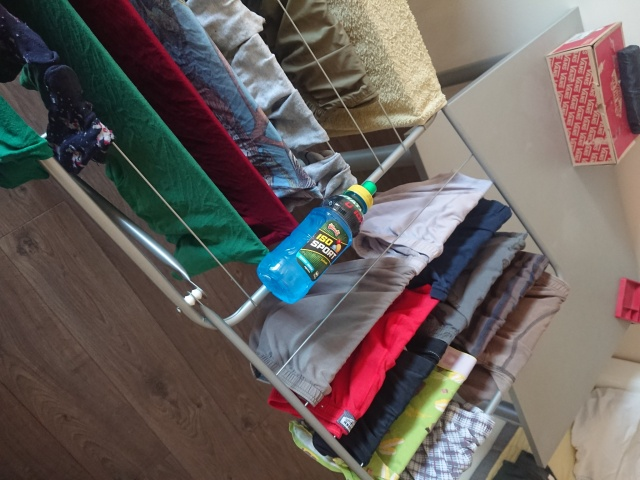Vindi Iso Sport Forest Strawberries 500mL: (254, 179, 379, 306)
